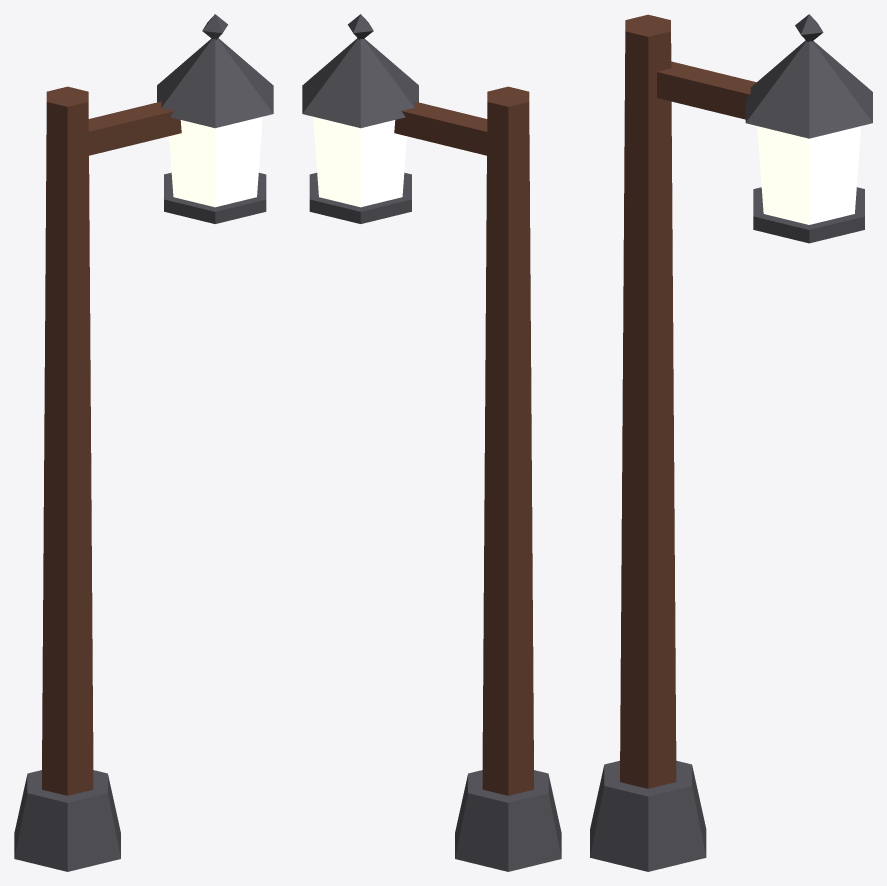
File: Lantern_Post.fbx
3 views of the same model, side by side, from view 1: azimuth 30°, elevation 25°; view 2: azimuth 150°, elevation 25°; view 3: azimuth 330°, elevation 25° (orthographic). The views are drawn at different scales.
Parts seen in each view (by area): view 1: Lantern_Post; view 2: Lantern_Post; view 3: Lantern_Post.
Boxes of the visible parts, x1,y1,x2,y2 form: Lantern_Post: (14, 14, 273, 871); Lantern_Post: (302, 14, 561, 871); Lantern_Post: (590, 14, 872, 871).
Size of the model in its own units: 0.7907 by 2.32 by 0.3085.
